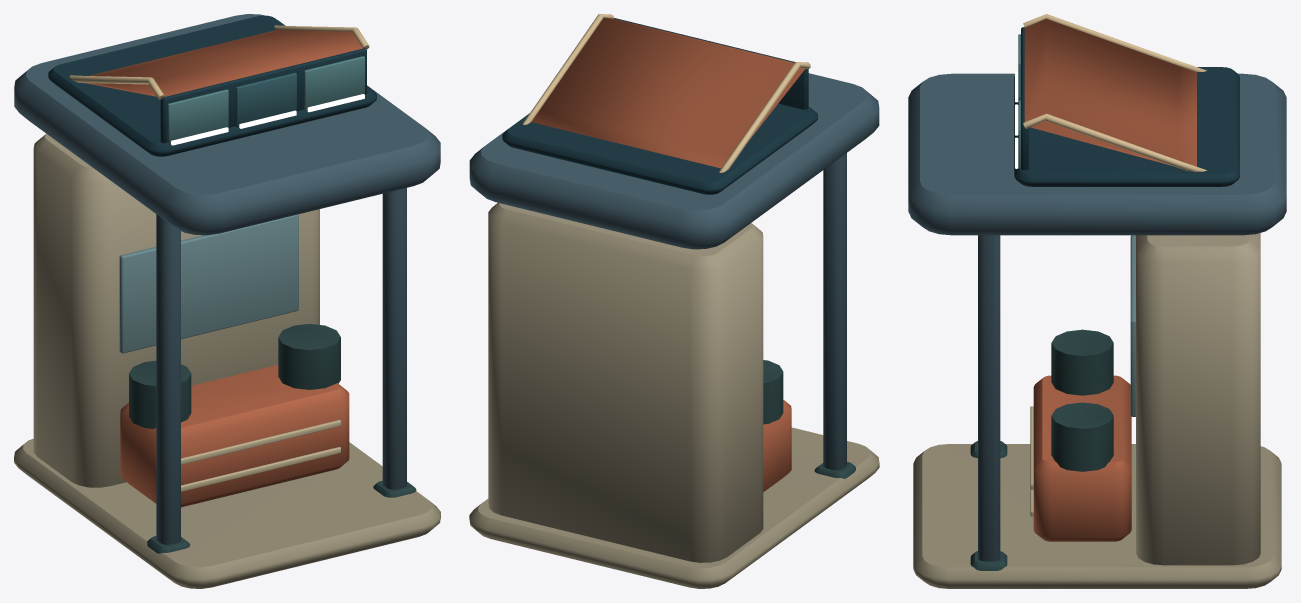
Rendered from annex_tires_4.glb.
The picture shows the model from 3 angles, left to right: view 1: azimuth 30°, elevation 25°; view 2: azimuth 150°, elevation 25°; view 3: azimuth 270°, elevation 25°; orthographic projection. The views are drawn at different scales.
Visible parts, largest first — view 1: AnnexTires4; view 2: AnnexTires4; view 3: AnnexTires4.
Boxes of the visible parts, x1,y1,x2,y2 form: AnnexTires4: (14, 14, 440, 588); AnnexTires4: (469, 14, 879, 588); AnnexTires4: (908, 14, 1286, 588).
Bounding box in the file's own units: 2.09 × 3.44 × 2.55.
